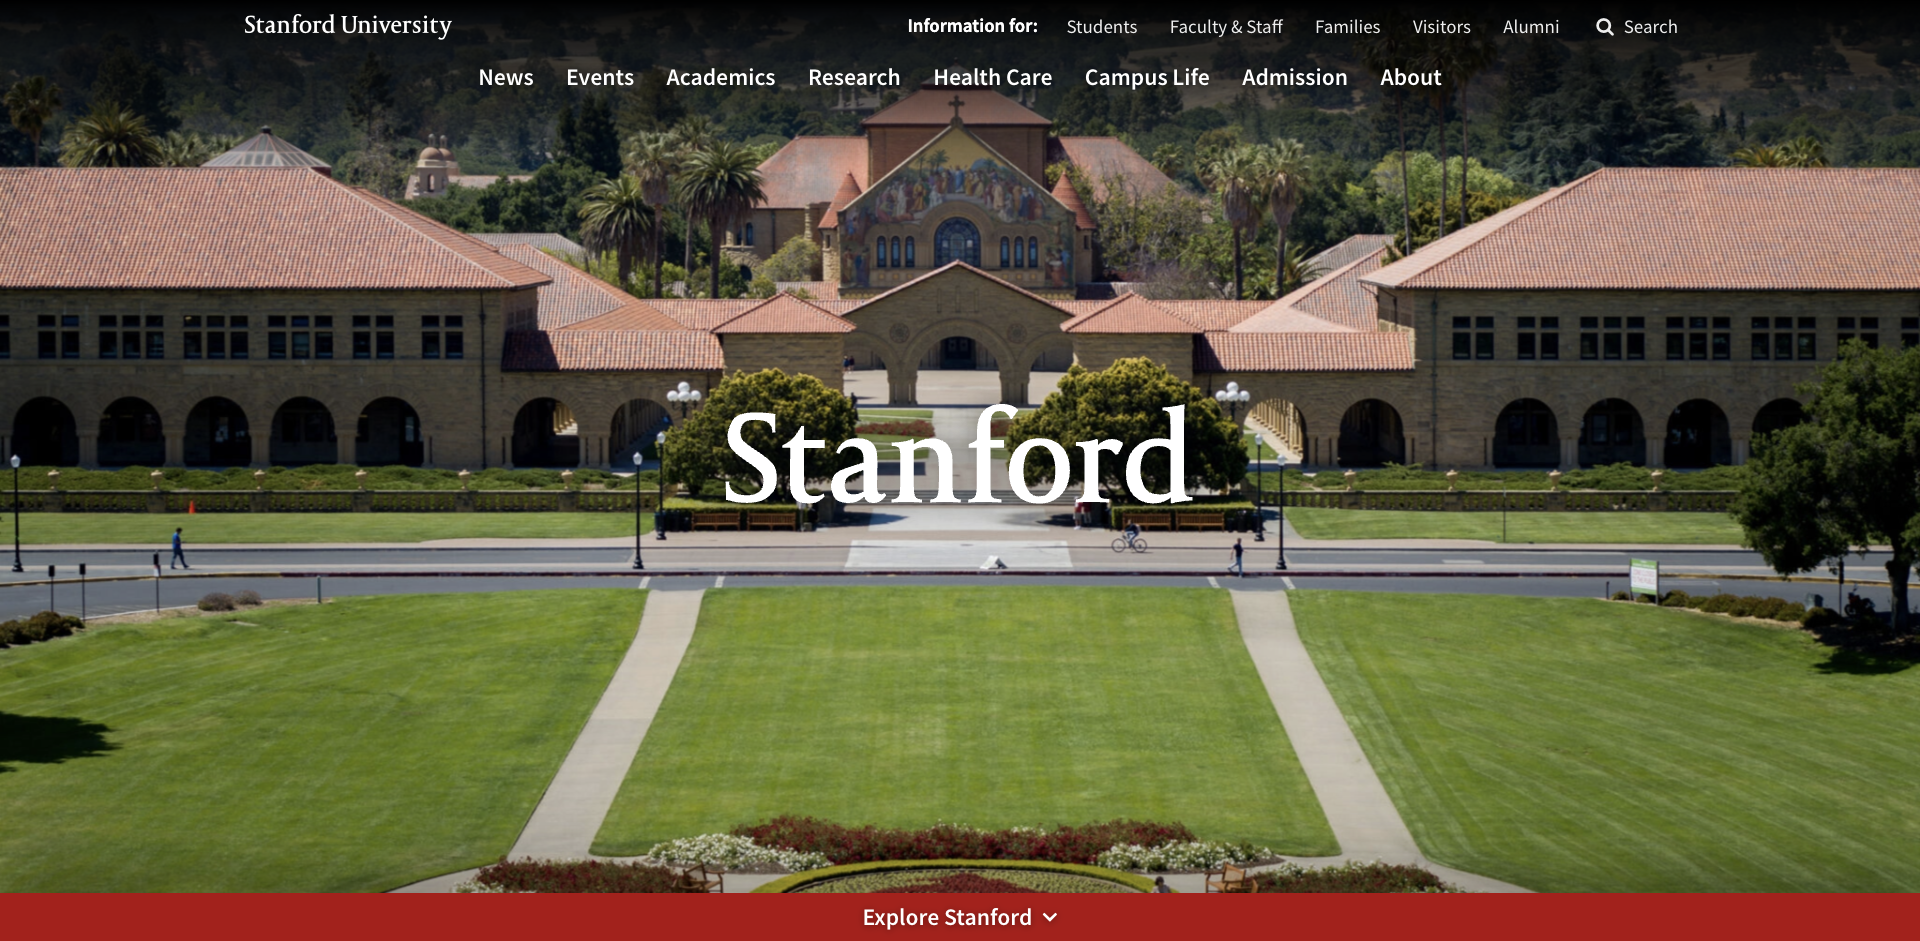button: (1573, 0, 1701, 50)
link: (839, 899, 1081, 932), (245, 9, 454, 45), (1085, 55, 1210, 107), (933, 55, 1053, 107), (1169, 0, 1282, 50), (666, 55, 775, 107), (1242, 55, 1348, 107), (808, 55, 901, 107), (1067, 0, 1138, 50), (566, 55, 634, 107), (1315, 0, 1380, 50), (1380, 55, 1442, 107), (478, 55, 534, 107), (1413, 0, 1471, 50), (1504, 0, 1560, 50)
menu_item: (1156, 0, 1297, 50), (1085, 55, 1210, 107), (933, 55, 1053, 107), (666, 55, 775, 107), (1242, 55, 1348, 107), (1052, 0, 1152, 50), (808, 55, 901, 107), (1300, 0, 1395, 50), (1398, 0, 1485, 50), (1489, 0, 1573, 50), (566, 55, 634, 107), (1380, 55, 1442, 107), (478, 55, 534, 107)
